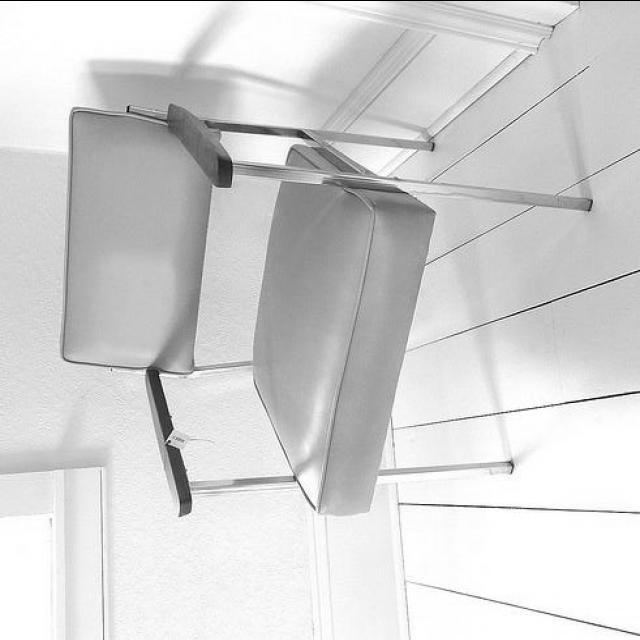chair: (56, 95, 590, 519)
